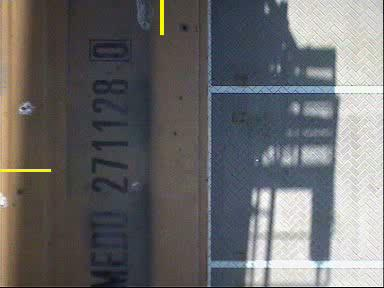groundmarker_2: (180, 182, 236, 223)
